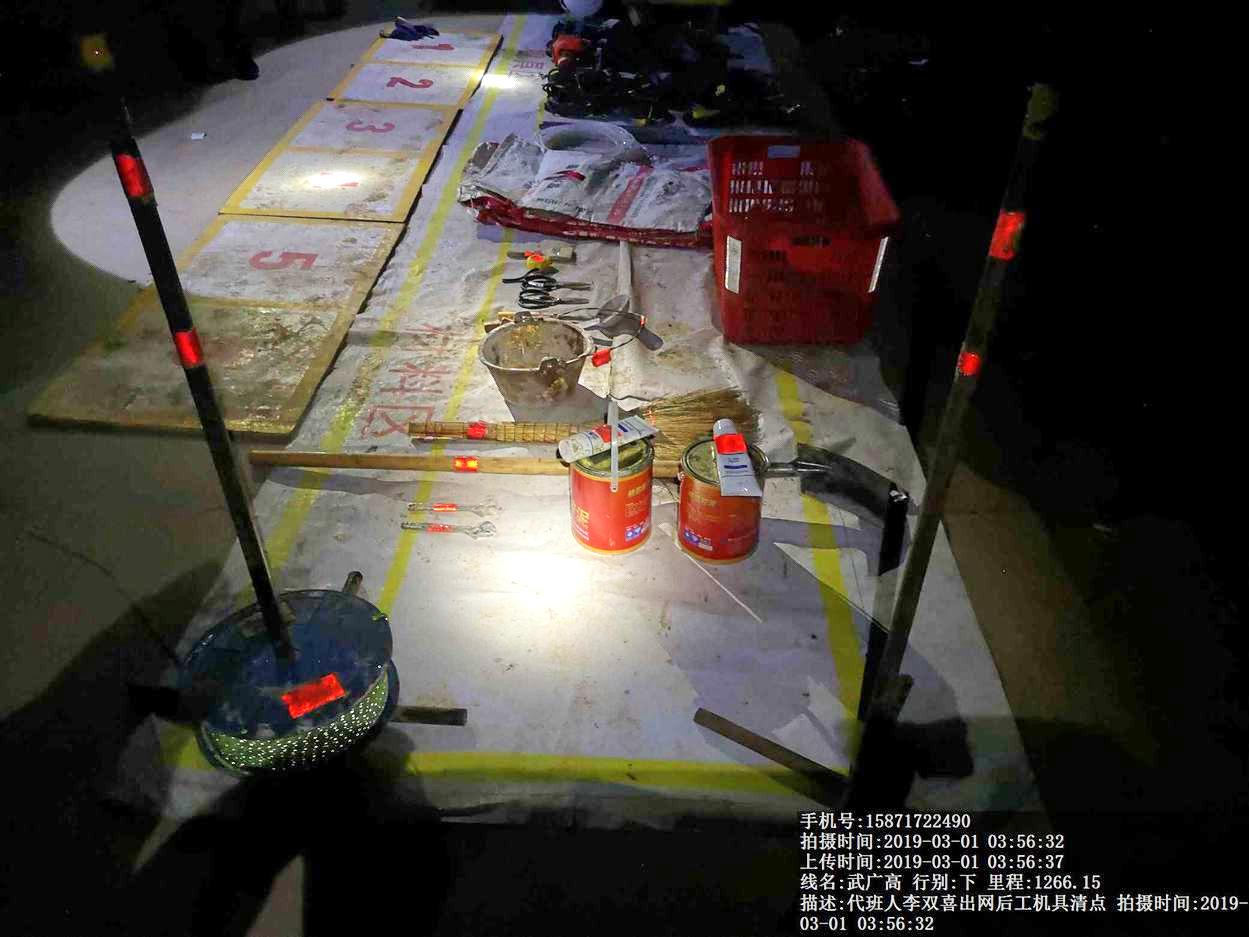BZD: (460, 143, 706, 246)
SG: (530, 109, 640, 156)
SNT: (477, 311, 593, 407)
